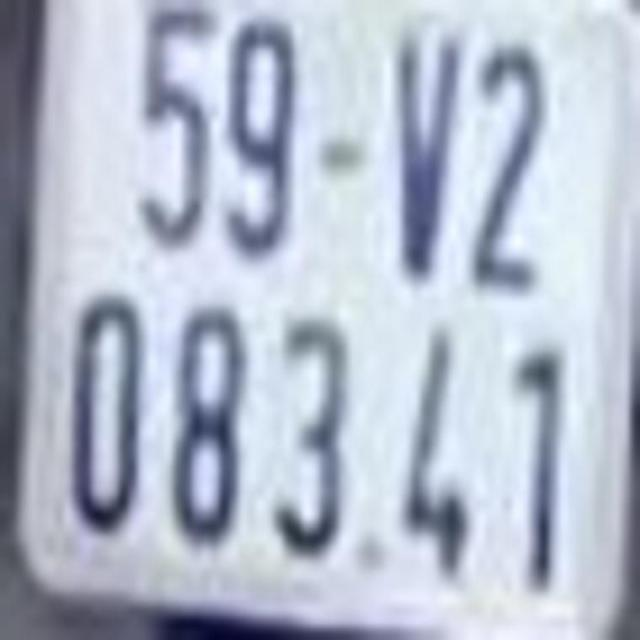0: (64, 294, 144, 536)
1: (500, 340, 568, 591)
2: (470, 31, 540, 292)
3: (280, 307, 348, 559)
4: (400, 318, 470, 586)
5: (140, 5, 217, 248)
8: (171, 296, 245, 538)
9: (220, 10, 300, 257)
V: (389, 23, 463, 272)
